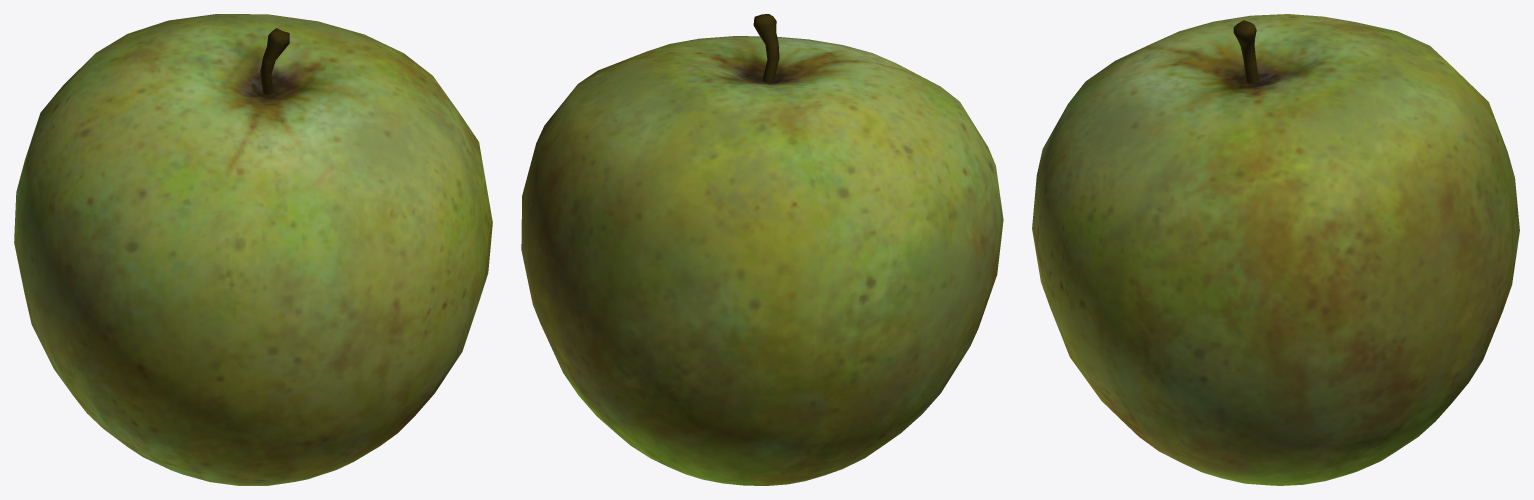
Rendered from apple.obj.
The picture shows the model from 3 angles, left to right: view 1: azimuth 30°, elevation 25°; view 2: azimuth 150°, elevation 25°; view 3: azimuth 270°, elevation 25°; orthographic projection. The views are drawn at different scales.
Visible parts, largest first — view 1: GreenApple; view 2: GreenApple; view 3: GreenApple.
Boxes of the visible parts, box(x1,y1,x2,y2) form: GreenApple: box(14, 14, 492, 485); GreenApple: box(521, 14, 1003, 485); GreenApple: box(1032, 14, 1519, 485).
Bounding box in the file's own units: 110 × 110 × 110.
Materials: 1 (1 with a texture image).
